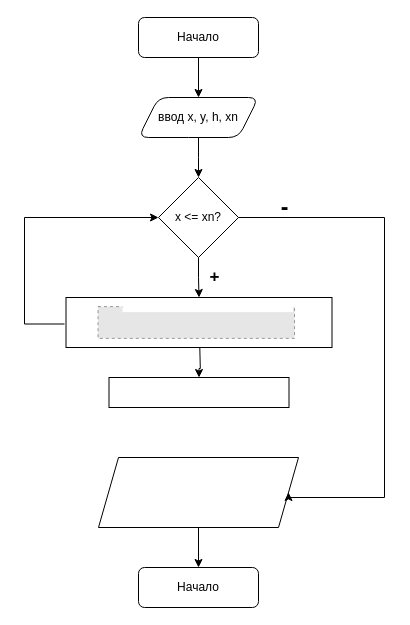
This 410x625 diagram has some shape labels left out. Grey dashed boxes stand in for pictures. Here are the shapes that lost their labels. From the top down, the centre of each, then its label:
At point 198,392: "x += h".
At point 198,492: "вывод массива координат точек - решений уравнения".
